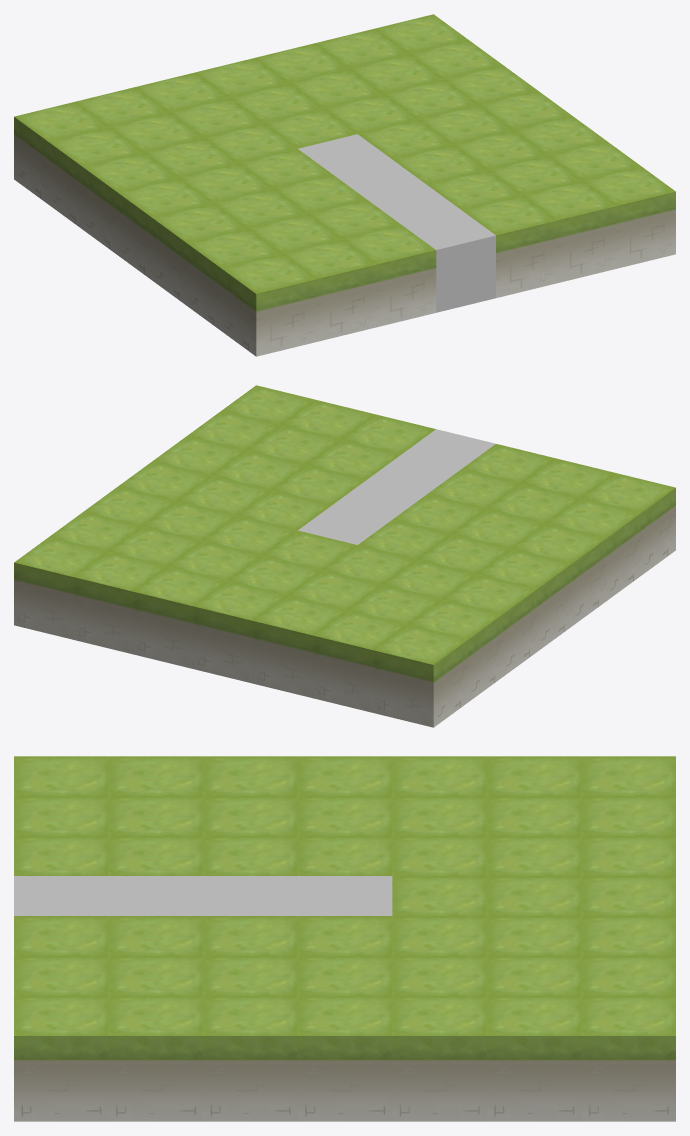
File: half tile.fbx
The picture shows the model from 3 angles, top to bottom: view 1: azimuth 30°, elevation 25°; view 2: azimuth 150°, elevation 25°; view 3: azimuth 270°, elevation 25°; orthographic projection. The views are drawn at different scales.
Parts seen in each view (by area): view 1: polySurface252; view 2: polySurface252; view 3: polySurface252.
Boxes of the visible parts, x1,y1,x2,y2 form: polySurface252: (14, 14, 675, 356); polySurface252: (14, 385, 675, 727); polySurface252: (14, 756, 675, 1121).
Bounding box in the file's own units: 7 × 1 × 7.
